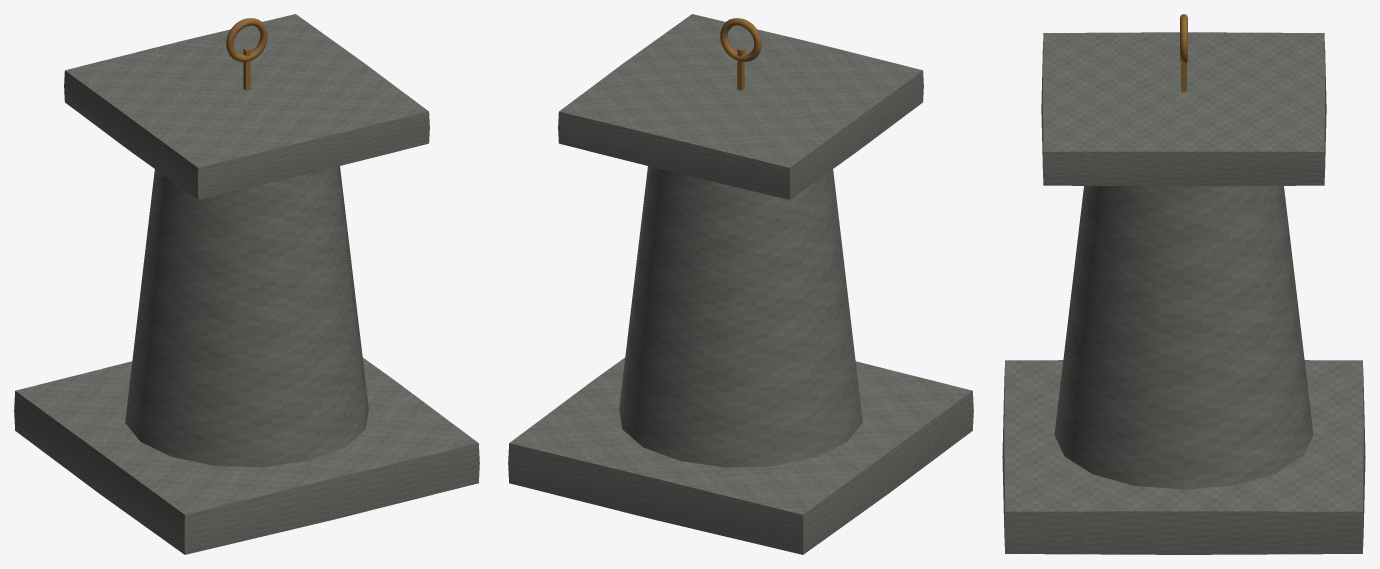
The picture shows the model from 3 angles, left to right: view 1: azimuth 30°, elevation 25°; view 2: azimuth 150°, elevation 25°; view 3: azimuth 270°, elevation 25°; orthographic projection. The views are drawn at different scales.
Visible parts, largest first — view 1: stone.1, stone.2, stone.0, brass.3; view 2: stone.1, stone.2, stone.0, brass.3; view 3: stone.1, stone.2, stone.0.
Part boxes in pixels (bbox=[...]): stone.1: bbox=[125, 166, 368, 467]; stone.2: bbox=[64, 14, 429, 199]; stone.0: bbox=[14, 357, 479, 554]; brass.3: bbox=[226, 18, 267, 61]; stone.1: bbox=[619, 166, 862, 467]; stone.2: bbox=[558, 14, 923, 199]; stone.0: bbox=[508, 357, 973, 554]; brass.3: bbox=[720, 18, 761, 61]; stone.1: bbox=[1054, 186, 1313, 489]; stone.2: bbox=[1041, 32, 1326, 186]; stone.0: bbox=[1002, 360, 1365, 554].
Size of the model in its own units: 0.7 by 0.988 by 0.7.
Materials: 2 (2 with a texture image).
